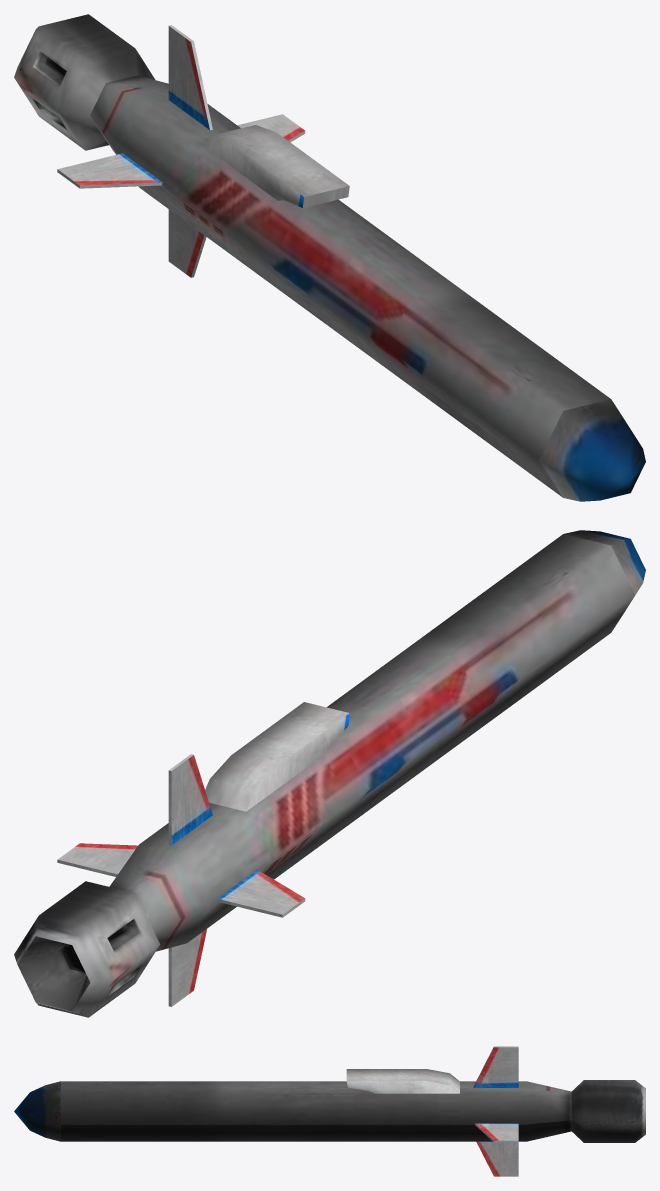
File: ChinaRocket.fbx
3 renders of one model, top to bottom at view 1: azimuth 30°, elevation 25°; view 2: azimuth 150°, elevation 25°; view 3: azimuth 270°, elevation 25°, orthographic. The views are drawn at different scales.
Parts seen in each view (by area): view 1: ChinaRocket; view 2: ChinaRocket; view 3: ChinaRocket.
Boxes of the visible parts, x1=… form: ChinaRocket: x1=14, y1=14, x2=645, y2=501; ChinaRocket: x1=14, y1=530, x2=645, y2=1017; ChinaRocket: x1=14, y1=1046, x2=645, y2=1176.
Size of the model in its own units: 172 by 172 by 763.
